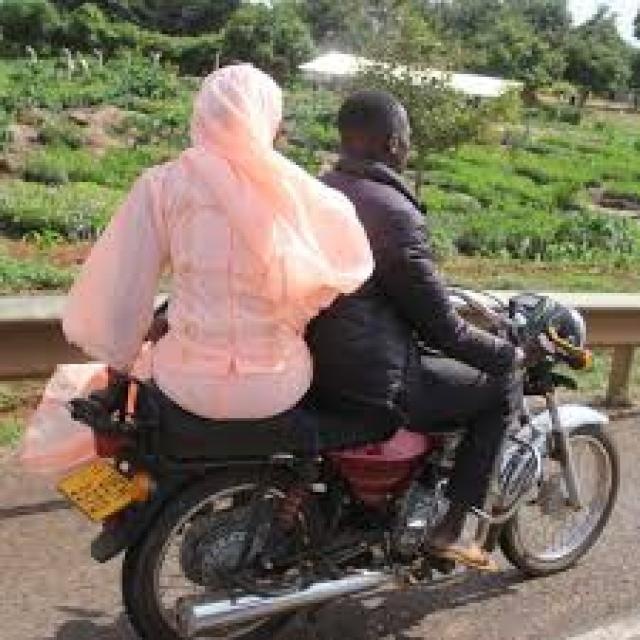bodaboda: (55, 256, 631, 640)
